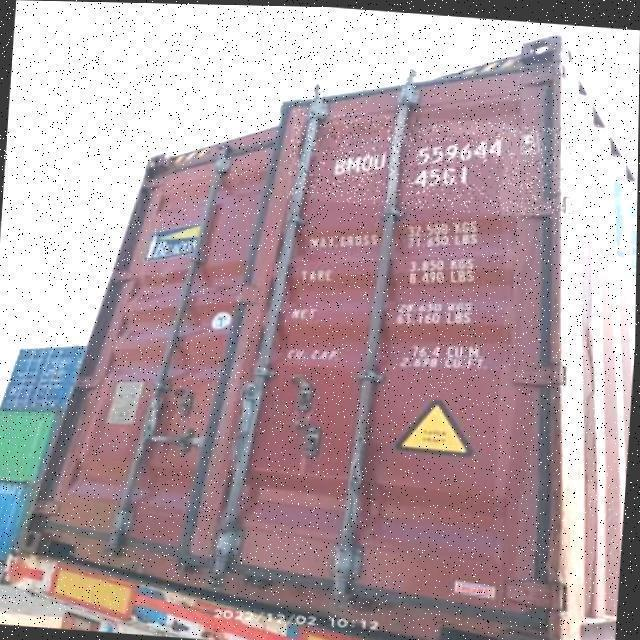ISO: (414, 164, 474, 192)
container_number: (333, 126, 546, 176)
